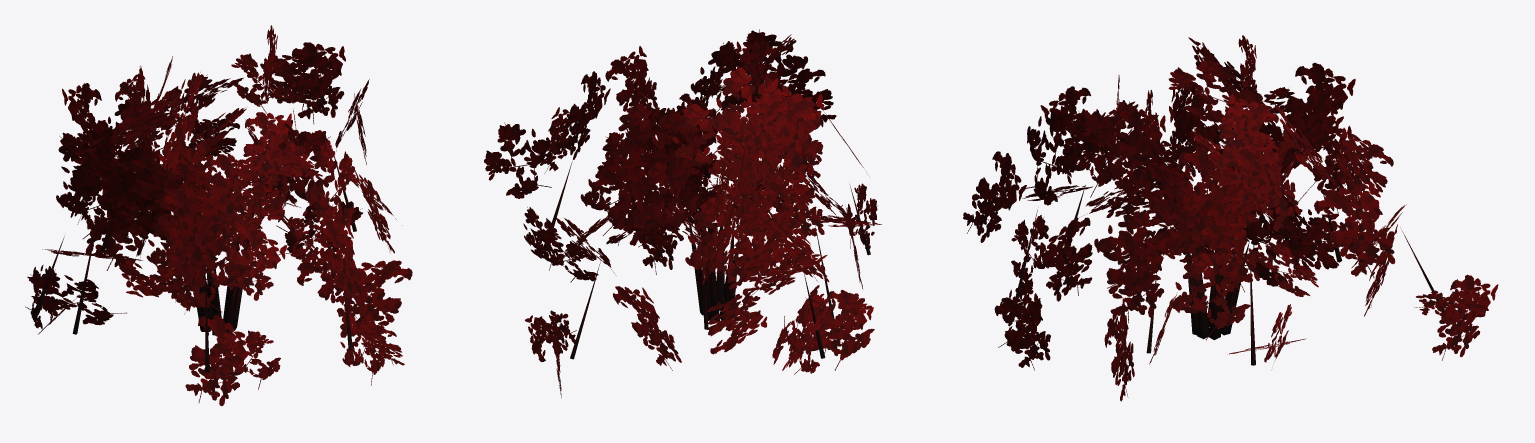
Rendered from bush_grassland_bramble_a_lod2.glb.
3 renders of one model, left to right at view 1: azimuth 30°, elevation 25°; view 2: azimuth 150°, elevation 25°; view 3: azimuth 270°, elevation 25°, orthographic. The views are drawn at different scales.
Visible parts, largest first — view 1: bush_grassland_bramble_a; view 2: bush_grassland_bramble_a; view 3: bush_grassland_bramble_a.
Boxes of the visible parts, x1,y1,x2,y2 form: bush_grassland_bramble_a: (25, 25, 412, 405); bush_grassland_bramble_a: (484, 29, 881, 398); bush_grassland_bramble_a: (963, 35, 1498, 401).
Bounding box in the file's own units: 1.71 × 1.33 × 2.22.
Materials: 1 (1 with a texture image).
